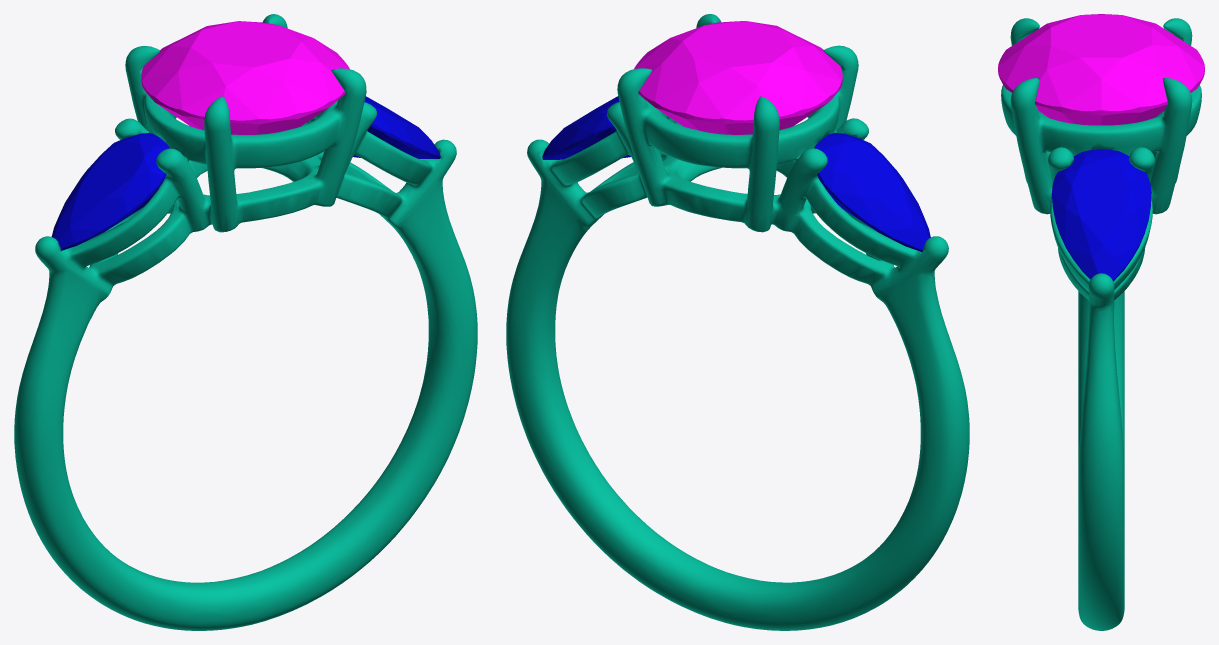
The model's file is BE1D9008_RD_200ct_RENDER.glb.
3 renders of one model, left to right at view 1: azimuth 30°, elevation 25°; view 2: azimuth 150°, elevation 25°; view 3: azimuth 270°, elevation 25°, orthographic.
Visible parts, largest first — view 1: Metal 01, CS_Diamond_Round, Diamond_Pear_side, Diamond_Pear_side.001; view 2: Metal 01, CS_Diamond_Round, Diamond_Pear_side, Diamond_Pear_side.001; view 3: Metal 01, CS_Diamond_Round, Diamond_Pear_side.001.
Boxes of the visible parts, left/top/right/bottom form: Metal 01: left=14, top=14, right=477, bottom=630; CS_Diamond_Round: left=141, top=21, right=349, bottom=134; Diamond_Pear_side: left=51, top=133, right=169, bottom=250; Diamond_Pear_side.001: left=353, top=96, right=440, bottom=158; Metal 01: left=506, top=14, right=969, bottom=630; CS_Diamond_Round: left=634, top=21, right=842, bottom=134; Diamond_Pear_side: left=814, top=132, right=930, bottom=251; Diamond_Pear_side.001: left=542, top=96, right=630, bottom=159; Metal 01: left=1001, top=18, right=1201, bottom=630; CS_Diamond_Round: left=998, top=14, right=1204, bottom=125; Diamond_Pear_side.001: left=1051, top=149, right=1151, bottom=281.
Bounding box in the file's own units: 20.1 × 24.35 × 8.
